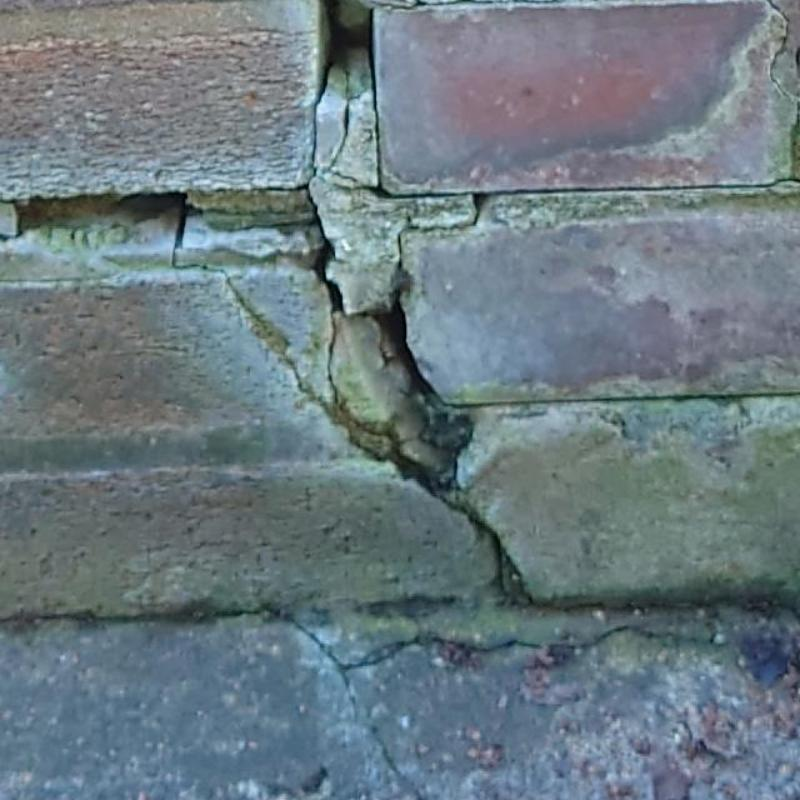pothole: (250, 0, 799, 410), (8, 605, 689, 799), (109, 191, 334, 420), (335, 408, 531, 605), (434, 390, 799, 409), (374, 288, 433, 396), (765, 0, 794, 101), (375, 0, 562, 12), (532, 600, 646, 615), (228, 220, 318, 233), (0, 198, 22, 241)
